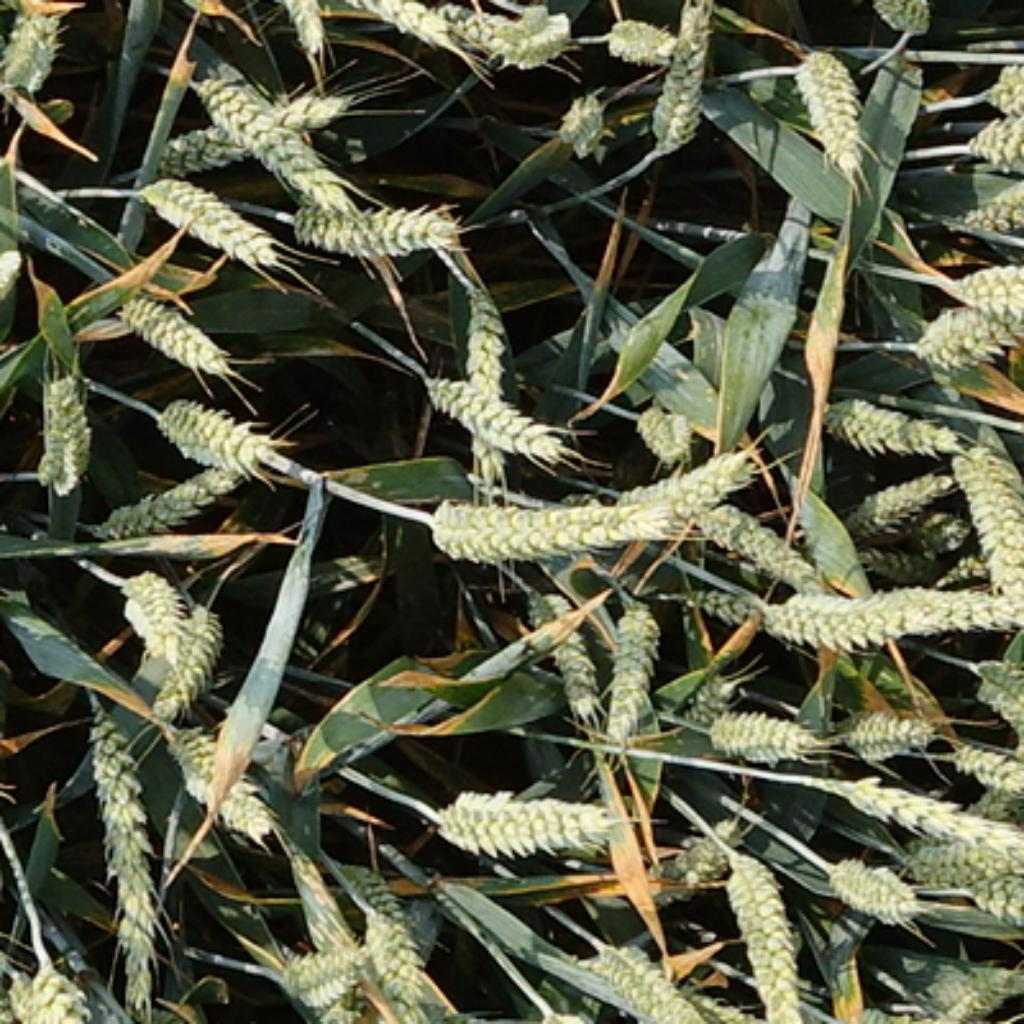0-0: (84, 698, 161, 1024), (186, 79, 366, 209), (146, 78, 374, 173), (422, 483, 683, 563), (757, 583, 1024, 655), (424, 775, 627, 862), (716, 842, 806, 1024), (419, 366, 576, 468), (133, 171, 279, 276), (837, 778, 1024, 855), (448, 276, 514, 494), (294, 186, 468, 261), (92, 453, 248, 535), (601, 446, 764, 524), (688, 481, 814, 578), (151, 394, 289, 476), (174, 724, 273, 837), (117, 286, 238, 378), (140, 583, 227, 704), (587, 943, 715, 1024), (645, 2, 716, 148), (522, 593, 601, 724), (793, 46, 875, 171), (601, 588, 665, 747), (957, 440, 1024, 586), (821, 389, 962, 458), (28, 358, 99, 491), (634, 814, 737, 901), (427, 2, 550, 71), (688, 588, 826, 647), (901, 824, 1024, 890), (358, 908, 427, 1024), (276, 926, 376, 1006), (115, 560, 192, 660), (913, 302, 1024, 368), (824, 862, 924, 934), (709, 704, 821, 768), (0, 2, 67, 105), (335, 0, 468, 49), (835, 704, 940, 763), (852, 463, 952, 522), (330, 852, 412, 921), (942, 263, 1024, 325), (269, 0, 335, 74), (502, 7, 577, 68), (955, 173, 1024, 238), (852, 547, 954, 588), (956, 732, 1024, 793), (601, 5, 675, 61), (23, 962, 89, 1024), (629, 404, 696, 465), (552, 94, 611, 160), (970, 660, 1024, 727), (967, 112, 1024, 171), (683, 668, 739, 724), (862, 0, 942, 37), (906, 512, 972, 555), (966, 882, 1024, 926), (980, 64, 1024, 110), (0, 0, 107, 2)
